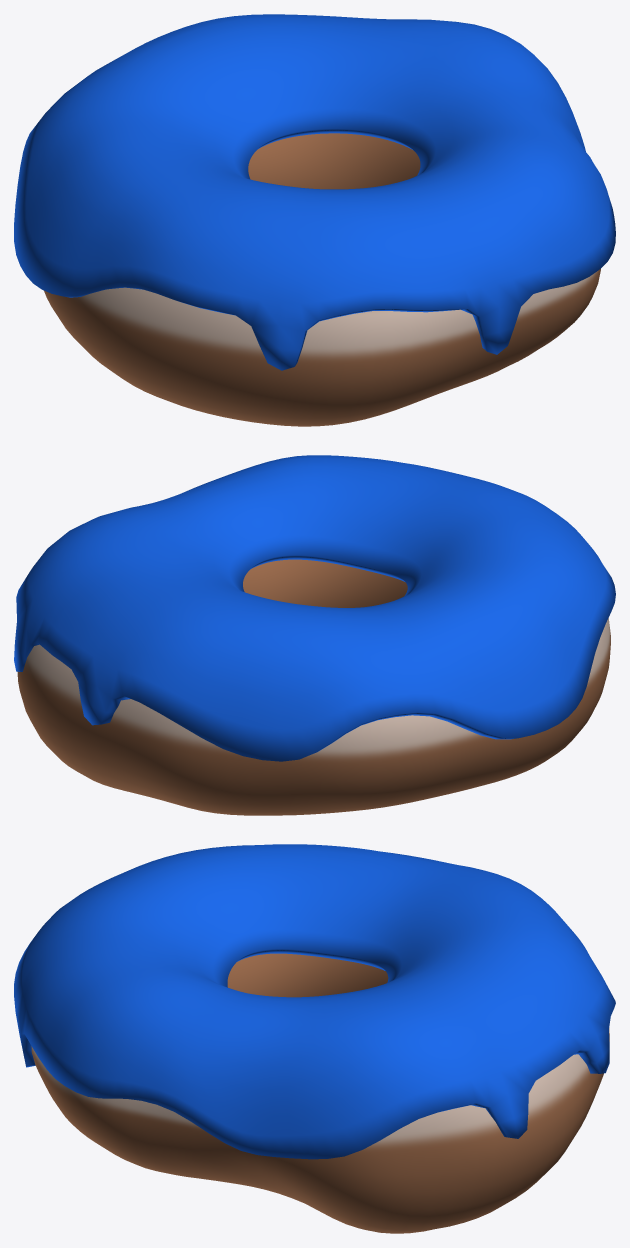
Rendered from uglyfinisheddonut.glb.
The picture shows the model from 3 angles, top to bottom: view 1: azimuth 30°, elevation 25°; view 2: azimuth 150°, elevation 25°; view 3: azimuth 270°, elevation 25°; orthographic projection. The views are drawn at different scales.
Visible parts, largest first — view 1: Frosting, Donut; view 2: Frosting, Donut; view 3: Frosting, Donut.
Part boxes in pixels (<box>): Frosting: <box>14,14,615,370</box>; Donut: <box>44,133,600,426</box>; Frosting: <box>14,455,615,761</box>; Donut: <box>17,559,610,815</box>; Frosting: <box>14,844,615,1159</box>; Donut: <box>31,953,609,1233</box>.
Bounding box in the file's own units: 0.4187 × 0.1718 × 0.4197.
2 materials, 1 textured.
